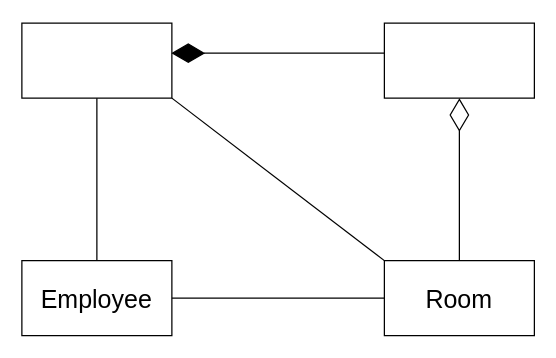
This 556x358 diagram has some shape labels left out. Here are the shapes that lost their labels. From the top down, the centre of each, then its label:
At (96,60): "Guest".
At (458,60): "Reservation".
